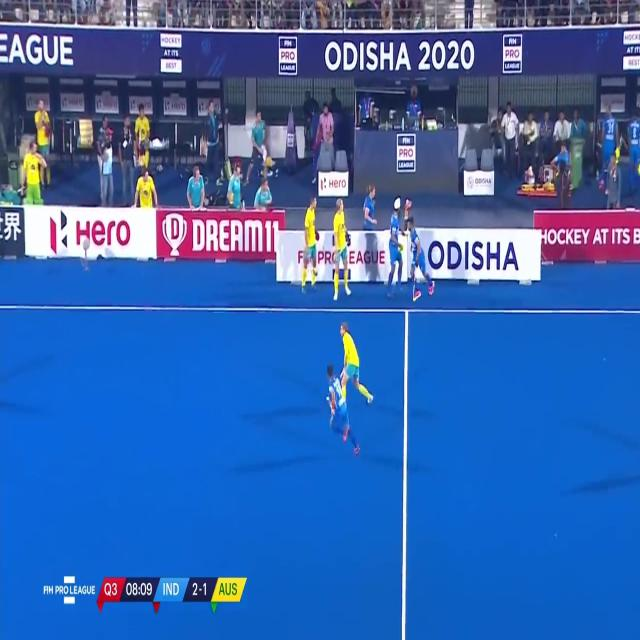ball: (325, 393, 331, 404)
